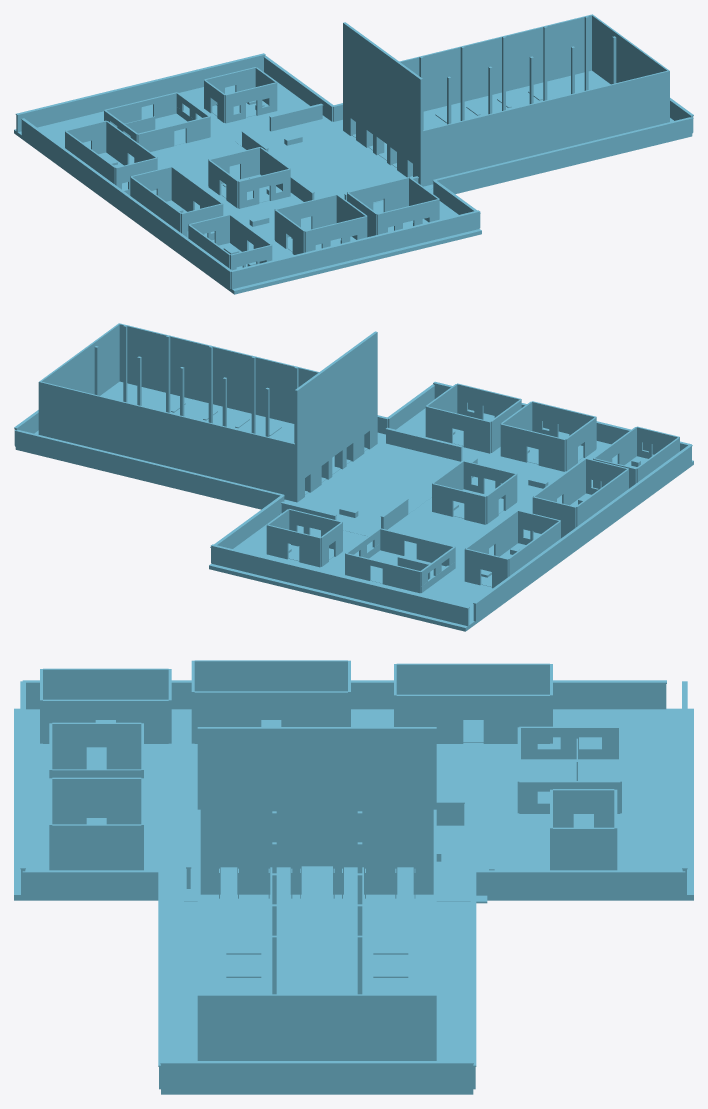
Rendered from collision-proxies.glb.
The picture shows the model from 3 angles, top to bottom: view 1: azimuth 30°, elevation 25°; view 2: azimuth 150°, elevation 25°; view 3: azimuth 270°, elevation 25°; orthographic projection. The views are drawn at different scales.
Visible parts, largest first — view 1: COL_Landmark_SideHollowWall_-1_238, COL_StreetPaving, COL_Landmark_SideHollowWall_1_239, COL_ForecourtPaving, COL_SouthBoundary, COL_ChurchSouthBoundary, COL_NorthBoundary, COL_WestBoundary, COL_Landmark_RoomFloor, COL_Landmark_BackHollowWall_240, COL_Block_Substrate_West, COL_ChurchFacadeSegment.002 (+30 smaller); view 2: COL_Landmark_SideHollowWall_1_239, COL_StreetPaving, COL_Landmark_SideHollowWall_-1_238, COL_ForecourtPaving, COL_NorthBoundary, COL_ChurchNorthBoundary, COL_WestBoundary, COL_Landmark_RoomFloor, COL_Landmark_BackHollowWall_240, COL_Block_Substrate_West, COL_ChurchFacadeSegment.002, COL_ChurchFacadeSegment.008 (+29 smaller); view 3: COL_StreetPaving, COL_Landmark_RoomFloor, COL_Landmark_BackHollowWall_240, COL_ChurchSidePaving, COL_EastBoundary, COL_ForecourtPaving, COL_ChurchFacadeSegment.002, COL_ChurchFacadeSegment.008, COL_WestBoundary, COL_LaneHouse_C_SideHollowWall_-1_96, COL_LaneHouse_E_SideHollowWall_-1_164, COL_NorthReturnBoundary (+47 smaller).
Part boxes in pixels (box(x1,y1,x2,y2)): COL_Landmark_SideHollowWall_-1_238: box(423, 70, 669, 186); COL_StreetPaving: box(14, 74, 481, 291); COL_Landmark_SideHollowWall_1_239: box(399, 14, 592, 111); COL_ForecourtPaving: box(235, 118, 433, 203); COL_SouthBoundary: box(231, 212, 479, 289); COL_ChurchSouthBoundary: box(438, 119, 692, 191); COL_NorthBoundary: box(16, 55, 265, 132); COL_WestBoundary: box(21, 120, 231, 288); COL_Landmark_RoomFloor: box(352, 70, 610, 186); COL_Landmark_BackHollowWall_240: box(592, 14, 668, 84); COL_Block_Substrate_West: box(14, 131, 481, 294); COL_ChurchFacadeSegment.002: box(397, 61, 410, 177); COL_Landmark_SideHollowWall_1_239: box(38, 381, 295, 501); COL_StreetPaving: box(209, 408, 693, 628); COL_Landmark_SideHollowWall_-1_238: box(118, 323, 318, 423); COL_ForecourtPaving: box(280, 439, 468, 536); COL_NorthBoundary: box(211, 546, 469, 626); COL_ChurchNorthBoundary: box(15, 431, 279, 507); COL_WestBoundary: box(473, 446, 691, 621); COL_Landmark_RoomFloor: box(100, 381, 367, 501); COL_Landmark_BackHollowWall_240: box(39, 323, 119, 395); COL_Block_Substrate_West: box(209, 462, 693, 631); COL_ChurchFacadeSegment.002: box(350, 341, 364, 461); COL_ChurchFacadeSegment.008: box(308, 372, 321, 492); COL_StreetPaving: box(14, 708, 693, 896); COL_Landmark_RoomFloor: box(200, 894, 433, 994); COL_Landmark_BackHollowWall_240: box(199, 994, 435, 1060); COL_ChurchSidePaving: box(161, 895, 472, 1090); COL_EastBoundary: box(161, 1064, 473, 1089); COL_ForecourtPaving: box(184, 824, 487, 903); COL_ChurchFacadeSegment.002: box(237, 727, 270, 894); COL_ChurchFacadeSegment.008: box(364, 727, 397, 894); COL_WestBoundary: box(26, 684, 666, 709); COL_LaneHouse_C_SideHollowWall_-1_96: box(194, 660, 347, 691); COL_LaneHouse_E_SideHollowWall_-1_164: box(396, 663, 549, 694); COL_NorthReturnBoundary: box(476, 873, 684, 895).
Size of the model in its own units: 98.57 by 20.68 by 74.
